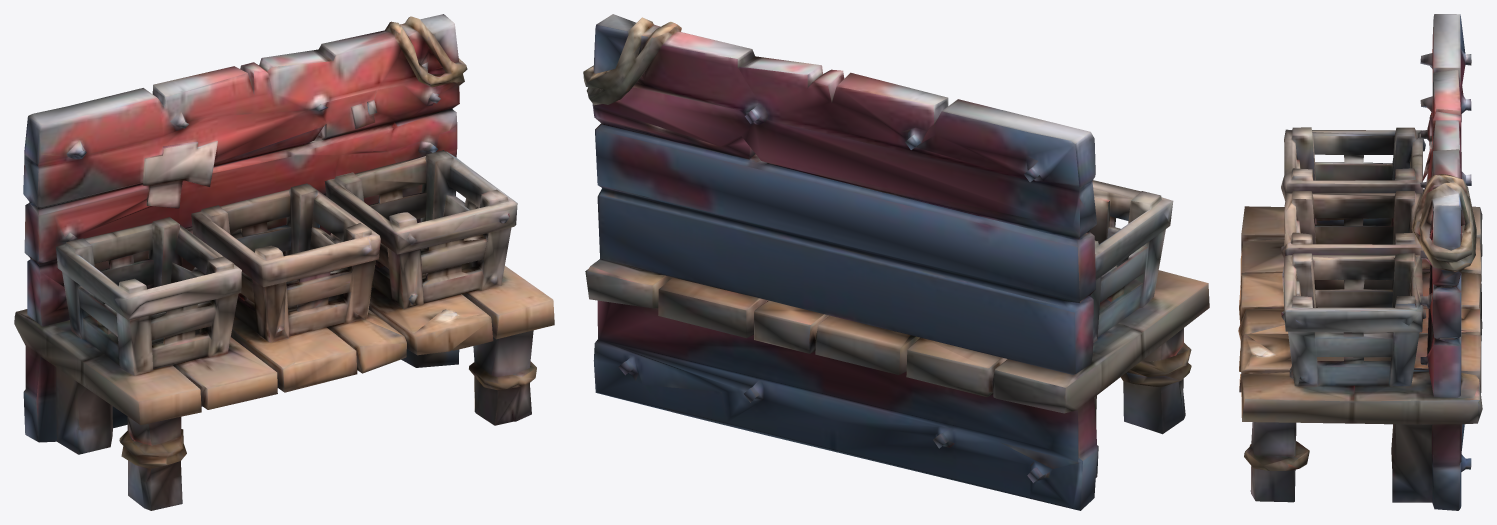
The model's file is guoshujia-1.glb.
3 views of the same model, side by side, from view 1: azimuth 30°, elevation 25°; view 2: azimuth 150°, elevation 25°; view 3: azimuth 270°, elevation 25° (orthographic). The views are drawn at different scales.
Visible parts, largest first — view 1: node_0; view 2: node_0; view 3: node_0.
Part boxes in pixels (left/top/right/bottom): node_0: left=14, top=14, right=554, bottom=510; node_0: left=583, top=14, right=1209, bottom=510; node_0: left=1238, top=14, right=1482, bottom=510.
Size of the model in its own units: 0.9269 by 0.6727 by 0.4746.
1 material, 1 textured.
